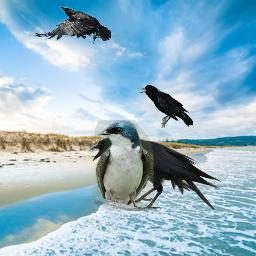Crow: (88, 136, 223, 211), (32, 6, 111, 45), (139, 85, 193, 128)
Swallow: (95, 120, 154, 211)
